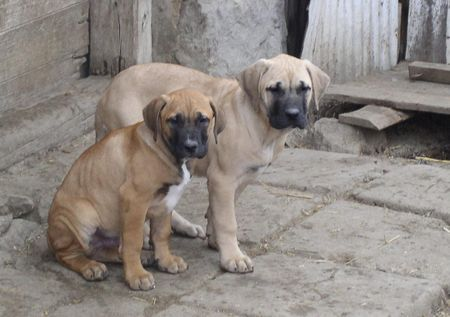tosa_inu: (94, 53, 331, 273), (45, 86, 218, 291)
